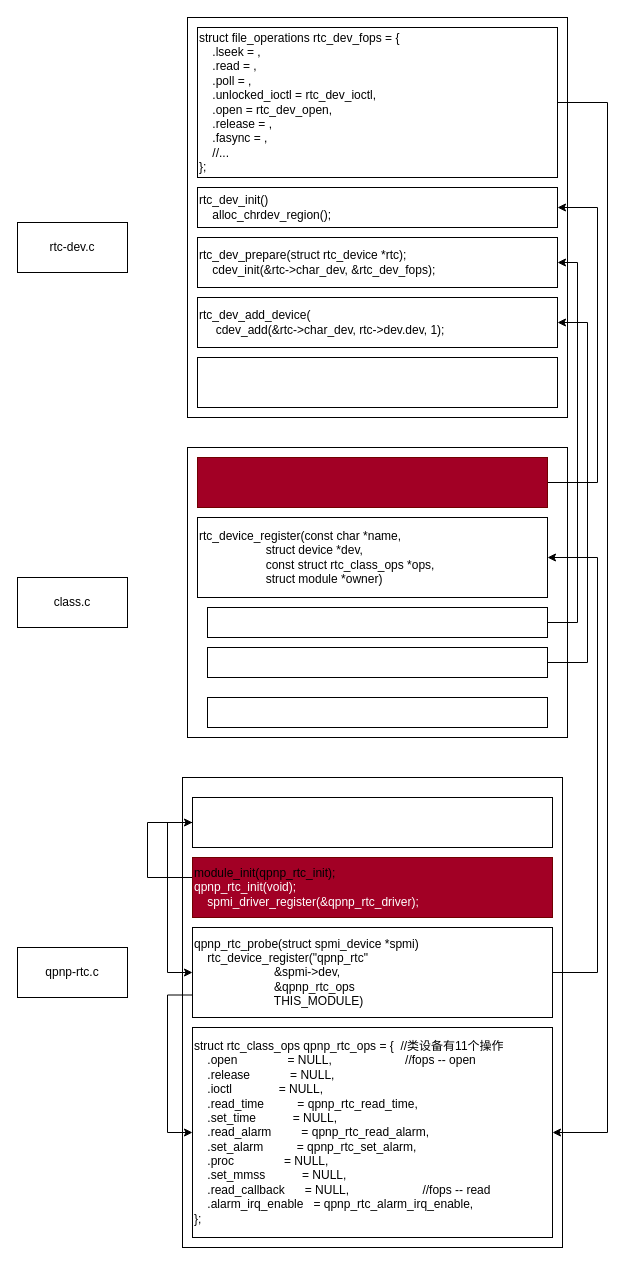
Some shapes in this 633 by 1265 pixel diagram are drawn without their labels. Each missing label, with the box of its shape:
rtc_dev_add_device(rtc);: (206, 646, 548, 678)
rtc_dev_del_device(struct rtc_device *rtc); cdev_del(&rtc->char_dev);: (196, 356, 558, 408)
rtc_dev_prepare(rtc);: (206, 606, 548, 638)
rtc_sysfs_add_device(rtc);: (206, 696, 548, 728)
struct spmi_driver qpnp_rtc_driver = { .probe = qpnp_rtc_probe, };: (192, 796, 552, 848)
subsys_initcal(rtc_init); rtc_init() rtc_dev_init();: (196, 456, 548, 508)
